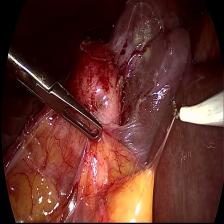Grasper: (6, 44, 105, 144)
Hook: (168, 86, 224, 140)
